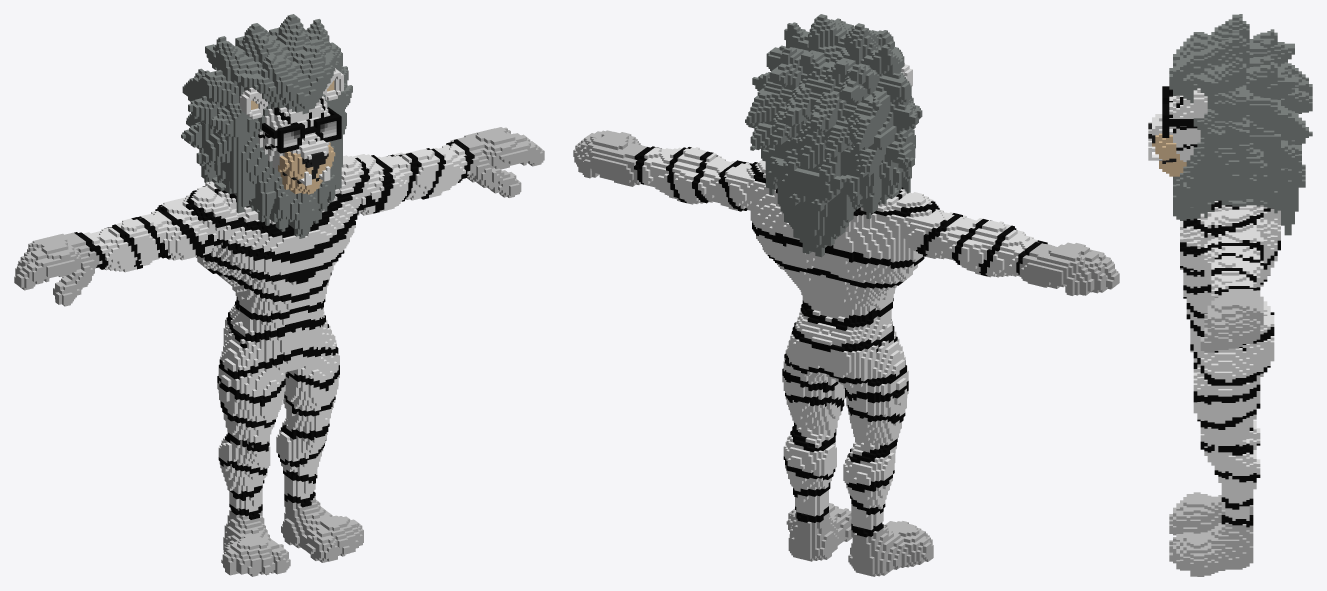
3 renders of one model, left to right at view 1: azimuth 30°, elevation 25°; view 2: azimuth 150°, elevation 25°; view 3: azimuth 270°, elevation 25°, orthographic. The views are drawn at different scales.
Visible parts, largest first — view 1: ork; view 2: ork; view 3: ork.
Boxes of the visible parts, x1,y1,x2,y2 form: ork: [14, 14, 544, 576]; ork: [573, 14, 1119, 576]; ork: [1148, 14, 1312, 576].
Bounding box in the file's own units: 17.2 × 16.5 × 4.7.
4 materials, 4 textured.
